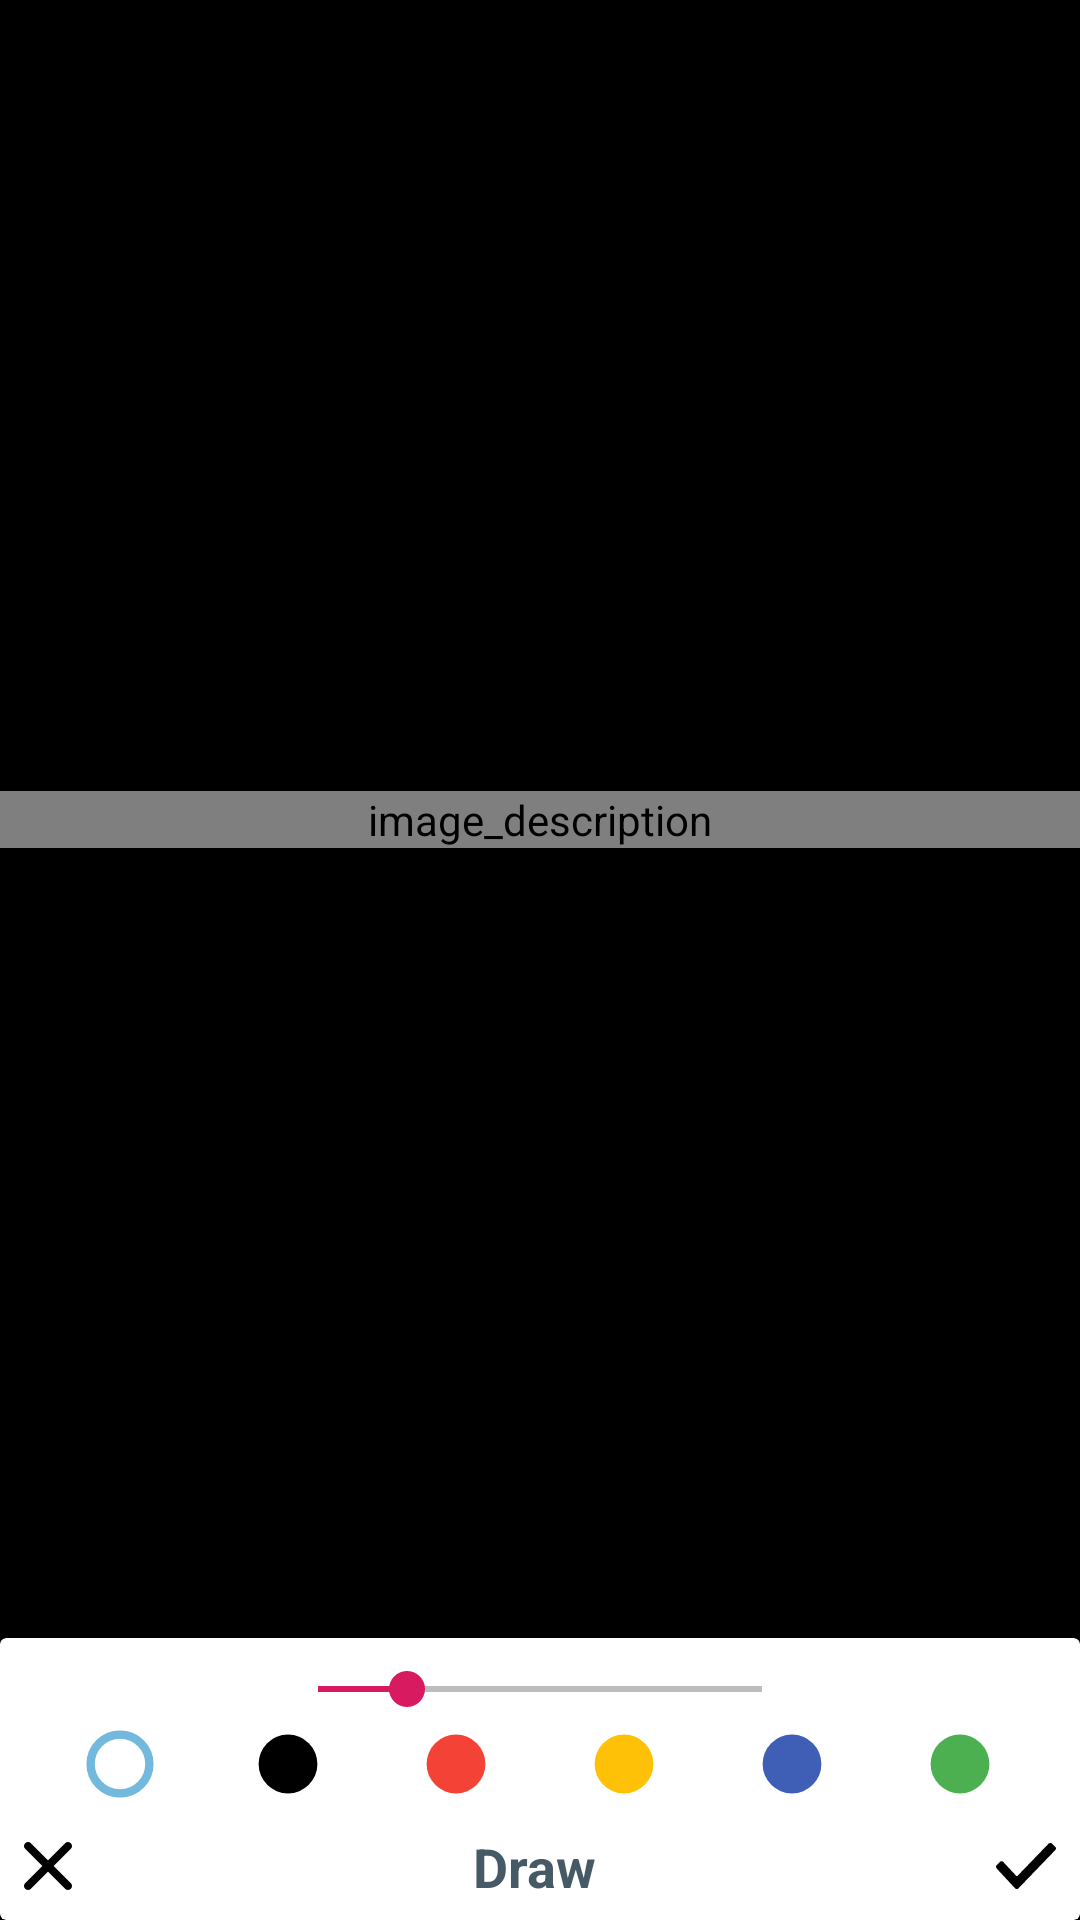

Named icons in this screenshot (1080 × 1920) and their centers, (x=x, y=y):
remove: (x=36, y=1881)
tick: (x=1038, y=1881)
